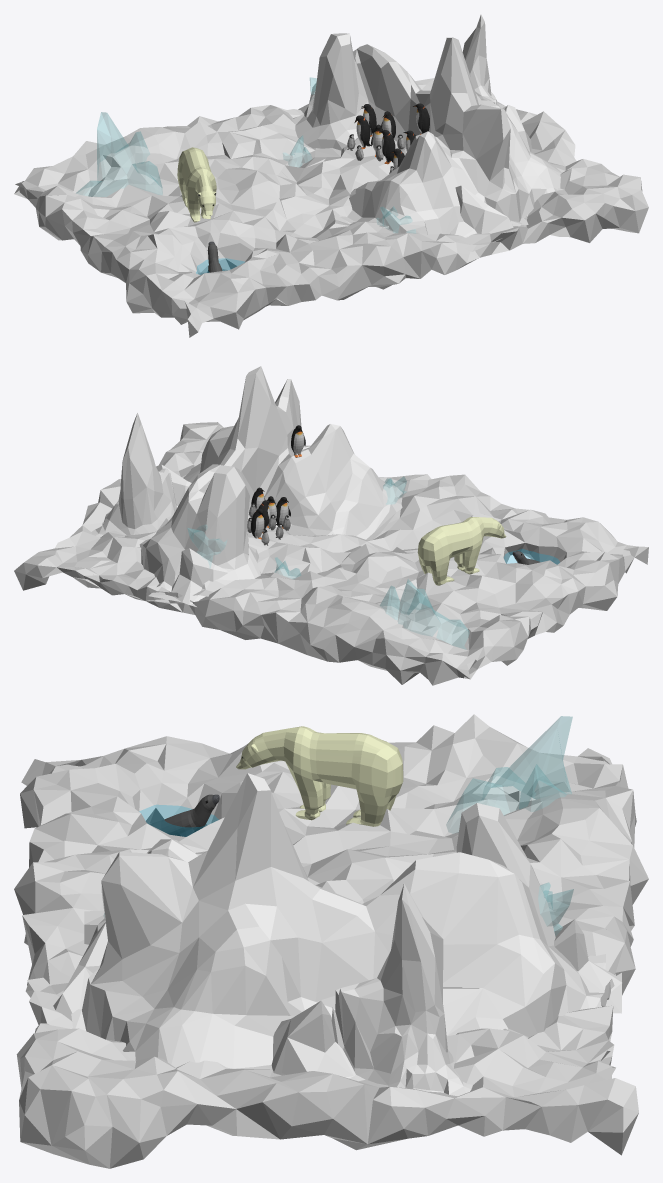
Rendered from iceworld.glb.
The picture shows the model from 3 angles, top to bottom: view 1: azimuth 30°, elevation 25°; view 2: azimuth 150°, elevation 25°; view 3: azimuth 270°, elevation 25°; orthographic projection. The views are drawn at different scales.
Parts seen in each view (by area): view 1: floor.002, Eislandschaft, Plane.001, icebear, Eisberg2.3, Eisberg1, Plane.002, Plane.003; view 2: floor.002, Eislandschaft, Eisberg1, icebear, Plane.001, Eisberg2.1, Plane.004; view 3: floor.002, Eislandschaft, Eisberg1, icebear, Plane.001, Eisberg2.2, Eisberg2.1, Eisberg2.3, seal, Plane.004, Plane.
Part boxes in pixels (box(x1,y1,x2,y2)): floor.002: box(14, 78, 648, 337); Eislandschaft: box(262, 33, 561, 237); Plane.001: box(76, 112, 162, 196); icebear: box(177, 147, 216, 222); Eisberg2.3: box(450, 185, 513, 251); Eisberg1: box(462, 14, 498, 105); Plane.002: box(376, 206, 415, 233); Plane.003: box(283, 135, 311, 166); floor.002: box(14, 422, 648, 685); Eislandschaft: box(93, 366, 405, 596); Eisberg1: box(91, 413, 176, 537); icebear: box(417, 517, 506, 585); Plane.001: box(380, 579, 469, 648); Eisberg2.1: box(148, 548, 227, 606); Plane.004: box(187, 525, 226, 567); floor.002: box(14, 714, 648, 1168); Eislandschaft: box(71, 773, 610, 1068); Eisberg1: box(331, 883, 472, 1096); icebear: box(236, 726, 403, 826); Plane.001: box(446, 716, 572, 833); Eisberg2.2: box(271, 1000, 365, 1081); Eisberg2.1: box(554, 919, 621, 1013); Eisberg2.3: box(27, 922, 107, 1021); seal: box(149, 794, 219, 836); Plane.004: box(538, 882, 573, 935); Plane: box(139, 805, 218, 836).
Size of the model in its own units: 6.54 by 2.46 by 4.61.
